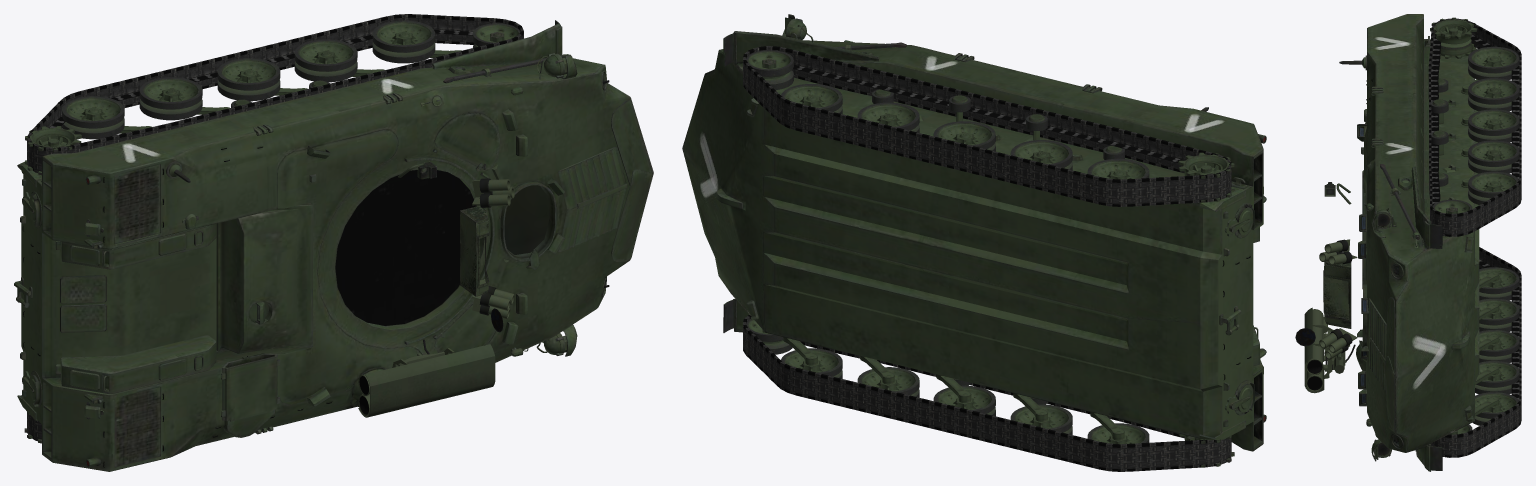
Rendered from hull.gltf.
The picture shows the model from 3 angles, left to right: view 1: azimuth 30°, elevation 25°; view 2: azimuth 150°, elevation 25°; view 3: azimuth 270°, elevation 25°; orthographic projection. The views are drawn at different scales.
Parts seen in each view (by area): view 1: hull; view 2: hull; view 3: hull.
Part boxes in pixels (left/top/right/bottom): hull: left=14, top=14, right=653, bottom=471; hull: left=682, top=14, right=1266, bottom=471; hull: left=1295, top=14, right=1521, bottom=471.
Size of the model in its own units: 5.42 by 2.63 by 2.15.
Materials: 6 (6 with a texture image).
